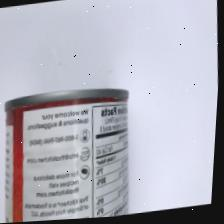metal: (0, 60, 161, 224)
